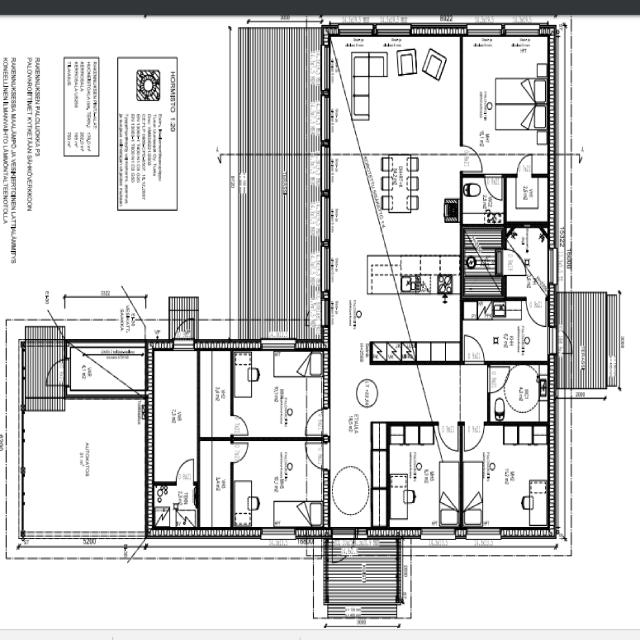door: (461, 173, 506, 223), (458, 141, 485, 174), (332, 532, 356, 568), (485, 364, 511, 396), (436, 420, 461, 453), (461, 420, 486, 452), (462, 332, 486, 364), (304, 407, 328, 436), (525, 296, 547, 327), (174, 455, 196, 484), (47, 359, 69, 387), (305, 440, 326, 469), (483, 172, 504, 201), (514, 152, 535, 178), (229, 412, 250, 437), (124, 539, 146, 561), (230, 439, 250, 463)
window: (24, 529, 72, 545), (258, 526, 299, 544), (418, 525, 456, 544), (334, 21, 376, 38), (464, 525, 503, 543), (373, 21, 414, 38), (503, 21, 542, 38), (465, 22, 504, 38), (260, 336, 298, 352), (123, 537, 145, 561), (546, 325, 557, 357)
zone: (462, 35, 550, 156), (462, 422, 551, 529), (232, 438, 326, 527), (387, 424, 459, 528), (240, 350, 318, 438), (150, 350, 198, 481), (459, 298, 545, 362), (68, 347, 144, 396), (503, 223, 551, 300), (488, 363, 548, 421), (461, 226, 505, 293), (200, 350, 231, 440), (205, 438, 231, 529), (461, 173, 506, 225), (382, 154, 418, 215), (151, 483, 198, 528), (504, 176, 548, 223), (138, 68, 158, 102)
